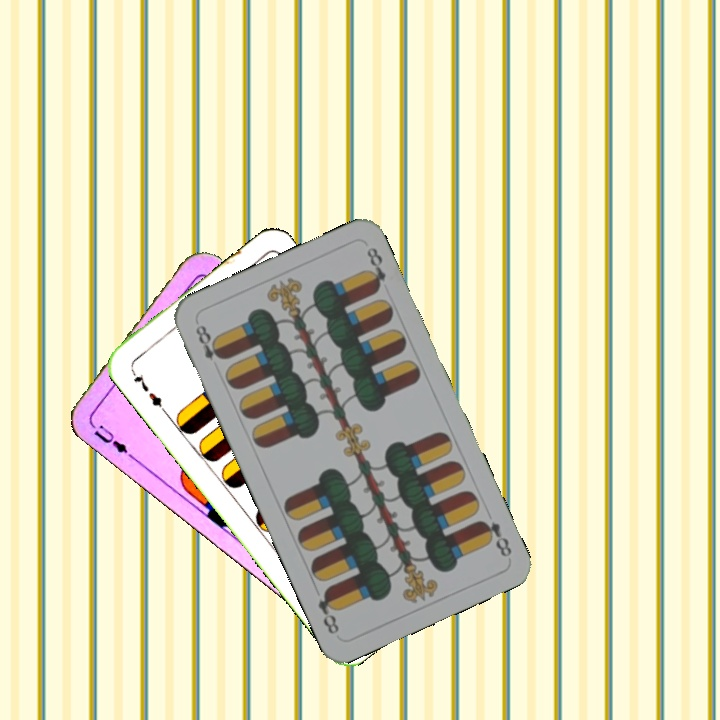E7: (127, 365, 169, 415)
E8: (475, 516, 515, 560), (191, 318, 227, 364)
EU: (85, 418, 135, 461)
